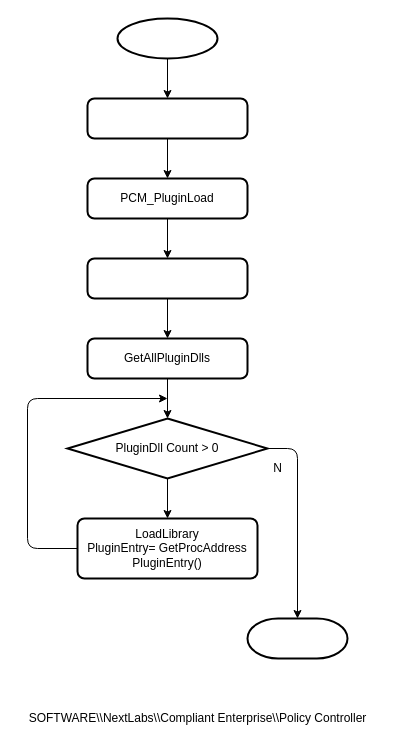
This 394x745 diagram has some shape labels left out. Each missing label, with the centre of its shape:
GetAllPluginConfigFiles: point 167,278
ServiceStart: point 167,118
